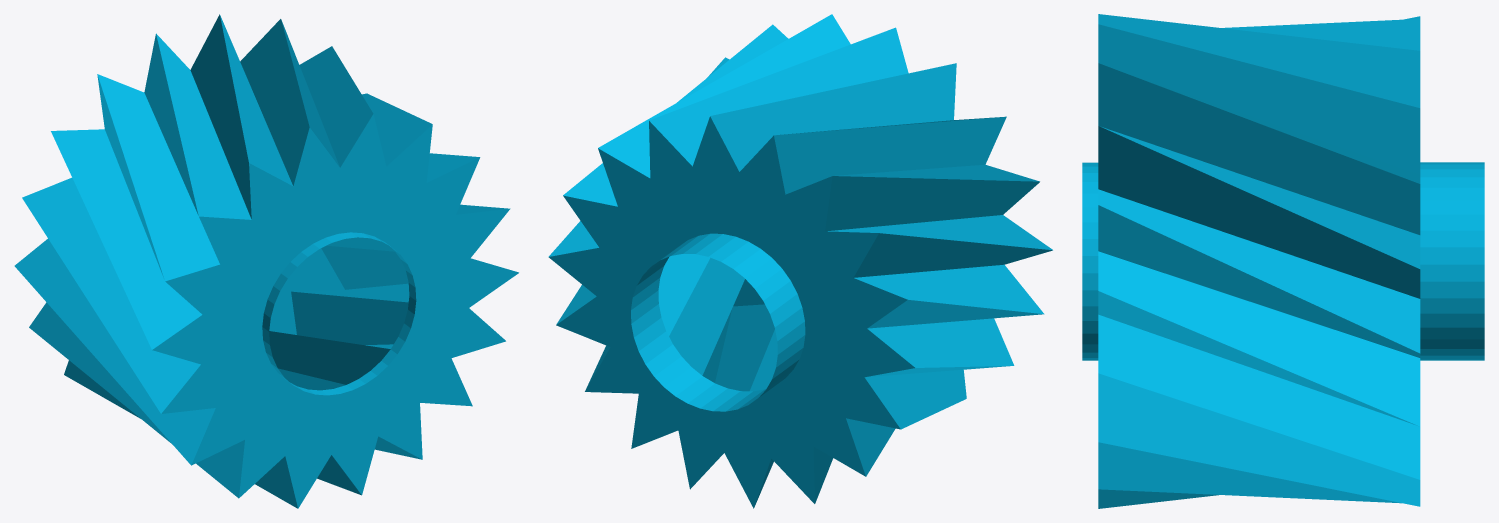
Rendered from 672- planet 3.fbx.
3 views of the same model, side by side, from view 1: azimuth 30°, elevation 25°; view 2: azimuth 150°, elevation 25°; view 3: azimuth 270°, elevation 25° (orthographic). The views are drawn at different scales.
Parts seen in each view (by area): view 1: planet 3; view 2: planet 3; view 3: planet 3.
Part boxes in pixels (x1=…): planet 3: x1=14, y1=14, x2=518, y2=508; planet 3: x1=548, y1=14, x2=1052, y2=508; planet 3: x1=1082, y1=14, x2=1484, y2=508.
Size of the model in its own units: 308 by 306 by 250.
